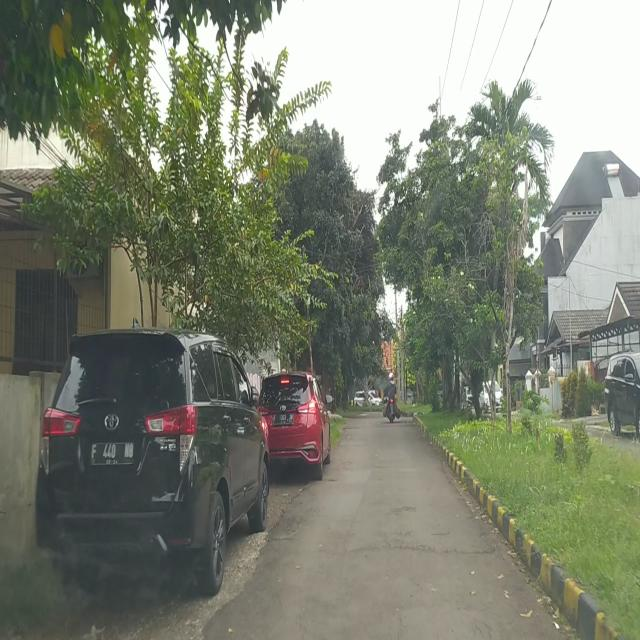Drain Hole: (381, 527, 435, 552)
